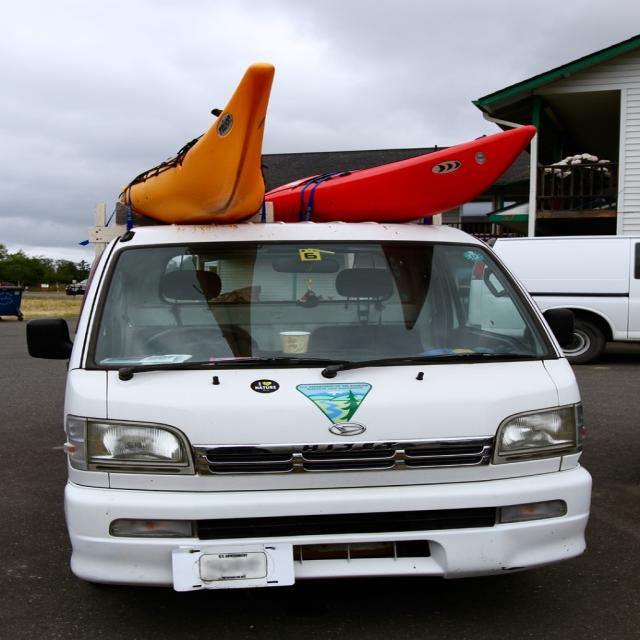Boat: (92, 82, 328, 232), (262, 124, 539, 225)
